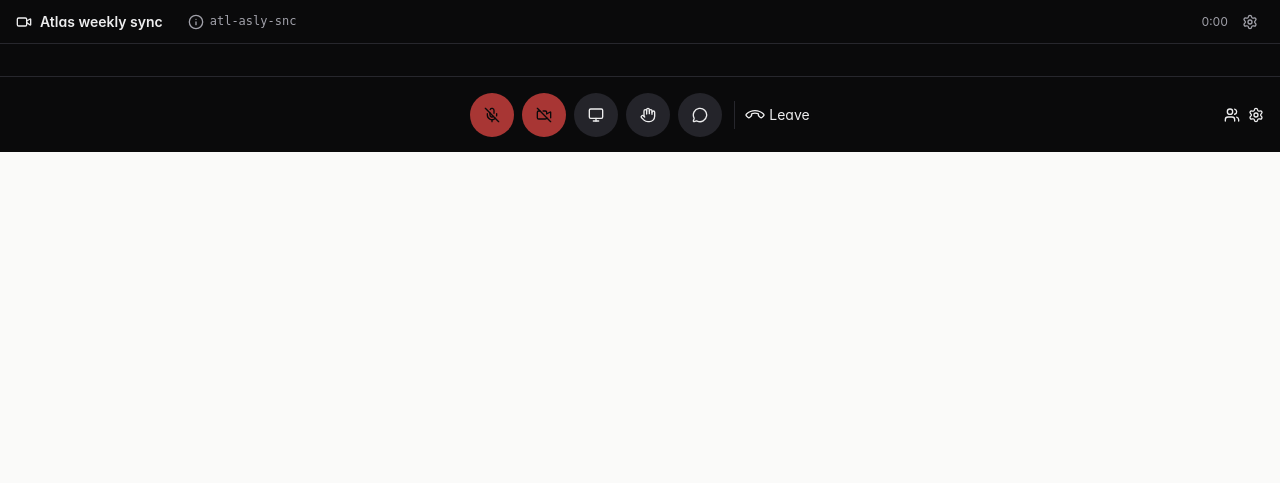
it: MeetCall lobby › names what the lobby toggle does
The width and height of the screenshot is (1280, 483).
Click the button named "Meeting settings": click(1250, 22) [1236, 8, 1264, 36]
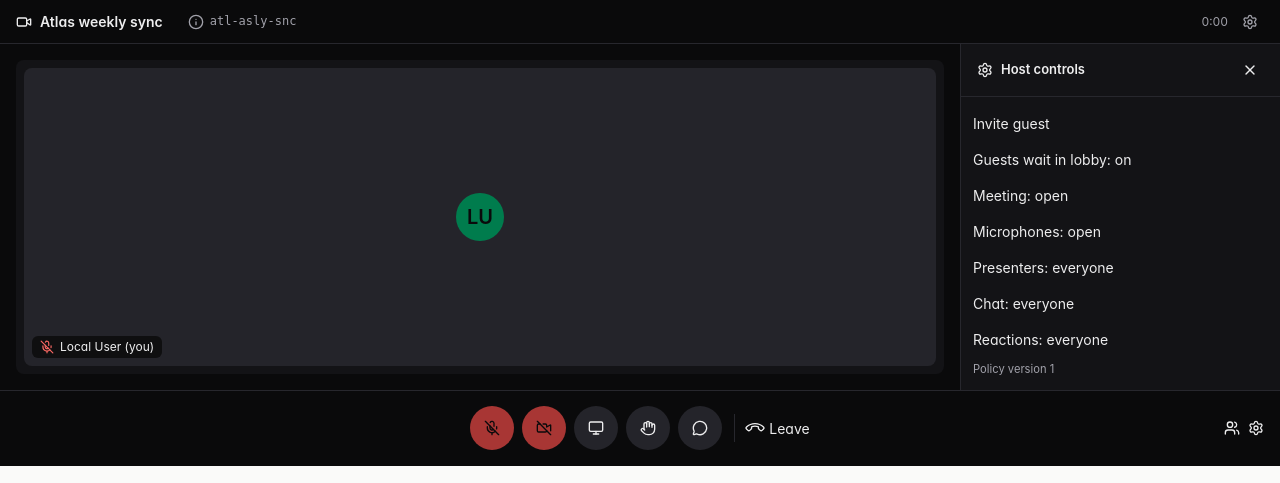
Expected: the text "Guests wait in lobby: on" is shown, [973, 145, 1268, 173]
Expected: the text "Invite guest" is shown, [973, 109, 1268, 137]
